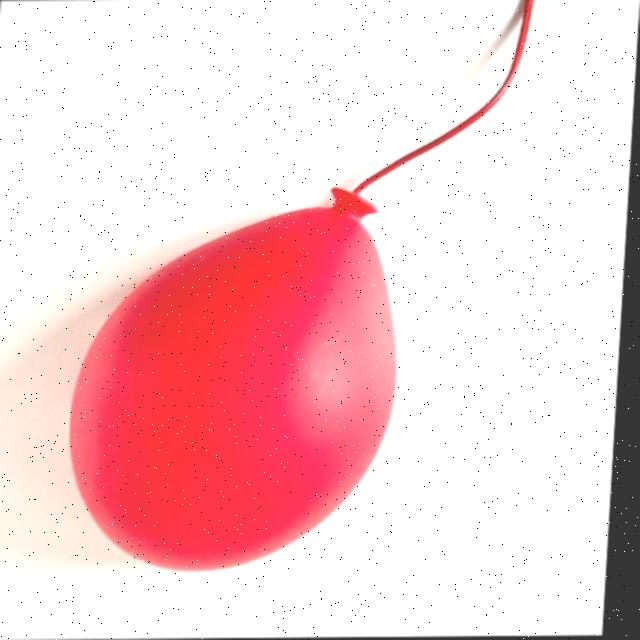balloon: (62, 198, 412, 572)
